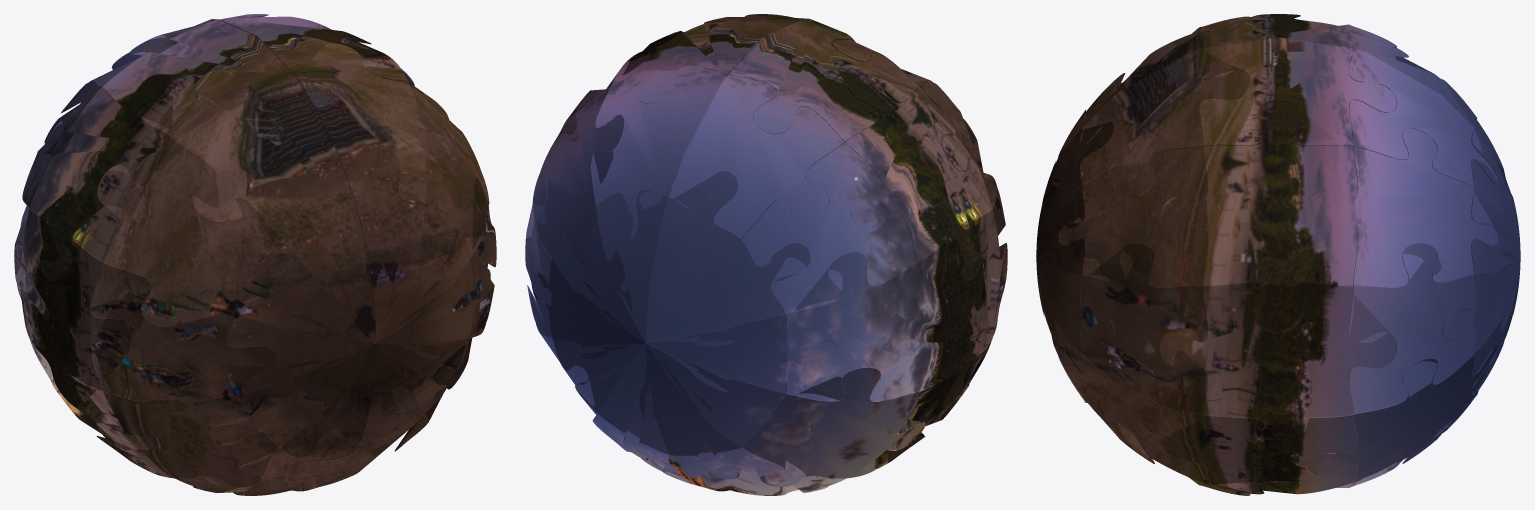
File: easy-puzzle-v29.fbx
3 renders of one model, left to right at view 1: azimuth 30°, elevation 25°; view 2: azimuth 150°, elevation 25°; view 3: azimuth 270°, elevation 25°, orthographic.
Parts seen in each view (by area): view 1: Puzzle.001, Puzzle.025, Puzzle.005, Puzzle.023, Puzzle.026, Puzzle.004, Puzzle.016, Puzzle.006, Puzzle.027, Puzzle.024, Puzzle.003, Puzzle.028 (+7 smaller); view 2: Puzzle.002, Puzzle.008, Puzzle.023, Puzzle.009, Puzzle.007, Puzzle.010, Puzzle.016, Puzzle.006, Puzzle.032, Puzzle.015, Puzzle.003, Puzzle.011 (+7 smaller); view 3: Puzzle.022, Puzzle.021, Puzzle.015, Puzzle.024, Puzzle.003, Puzzle.031, Puzzle.014, Puzzle.020, Puzzle.004, Puzzle.001, Puzzle.002, Puzzle.032 (+7 smaller).
Part boxes in pixels (bbox=[...]): Puzzle.001: bbox=[211, 150, 490, 460]; Puzzle.025: bbox=[98, 142, 280, 326]; Puzzle.005: bbox=[177, 69, 352, 254]; Puzzle.023: bbox=[30, 74, 175, 280]; Puzzle.026: bbox=[91, 263, 276, 401]; Puzzle.004: bbox=[294, 43, 450, 204]; Puzzle.016: bbox=[14, 209, 131, 407]; Puzzle.006: bbox=[102, 20, 292, 141]; Puzzle.027: bbox=[97, 367, 279, 486]; Puzzle.024: bbox=[410, 86, 488, 265]; Puzzle.003: bbox=[220, 14, 409, 85]; Puzzle.028: bbox=[175, 429, 359, 495]; Puzzle.002: bbox=[531, 171, 837, 478]; Puzzle.008: bbox=[741, 142, 917, 314]; Puzzle.023: bbox=[845, 74, 991, 280]; Puzzle.009: bbox=[785, 252, 929, 401]; Puzzle.007: bbox=[668, 74, 844, 239]; Puzzle.010: bbox=[742, 367, 924, 486]; Puzzle.016: bbox=[889, 209, 1007, 407]; Puzzle.006: bbox=[728, 20, 919, 141]; Puzzle.032: bbox=[591, 66, 727, 240]; Puzzle.015: bbox=[533, 87, 624, 265]; Puzzle.003: bbox=[611, 14, 801, 103]; Puzzle.011: bbox=[662, 447, 845, 495]; Puzzle.022: bbox=[1160, 101, 1357, 333]; Puzzle.021: bbox=[1160, 282, 1396, 453]; Puzzle.015: bbox=[1307, 128, 1498, 287]; Puzzle.024: bbox=[1059, 146, 1208, 287]; Puzzle.003: bbox=[1199, 37, 1396, 146]; Puzzle.031: bbox=[1080, 243, 1208, 414]; Puzzle.014: bbox=[1349, 243, 1476, 414]; Puzzle.020: bbox=[1160, 414, 1357, 494]; Puzzle.004: bbox=[1080, 48, 1250, 198]; Puzzle.001: bbox=[1036, 114, 1114, 401]; Puzzle.002: bbox=[1443, 80, 1520, 430]; Puzzle.032: bbox=[1349, 48, 1498, 187].
Bounding box in the file's own units: 6.69 × 6.73 × 6.73.
